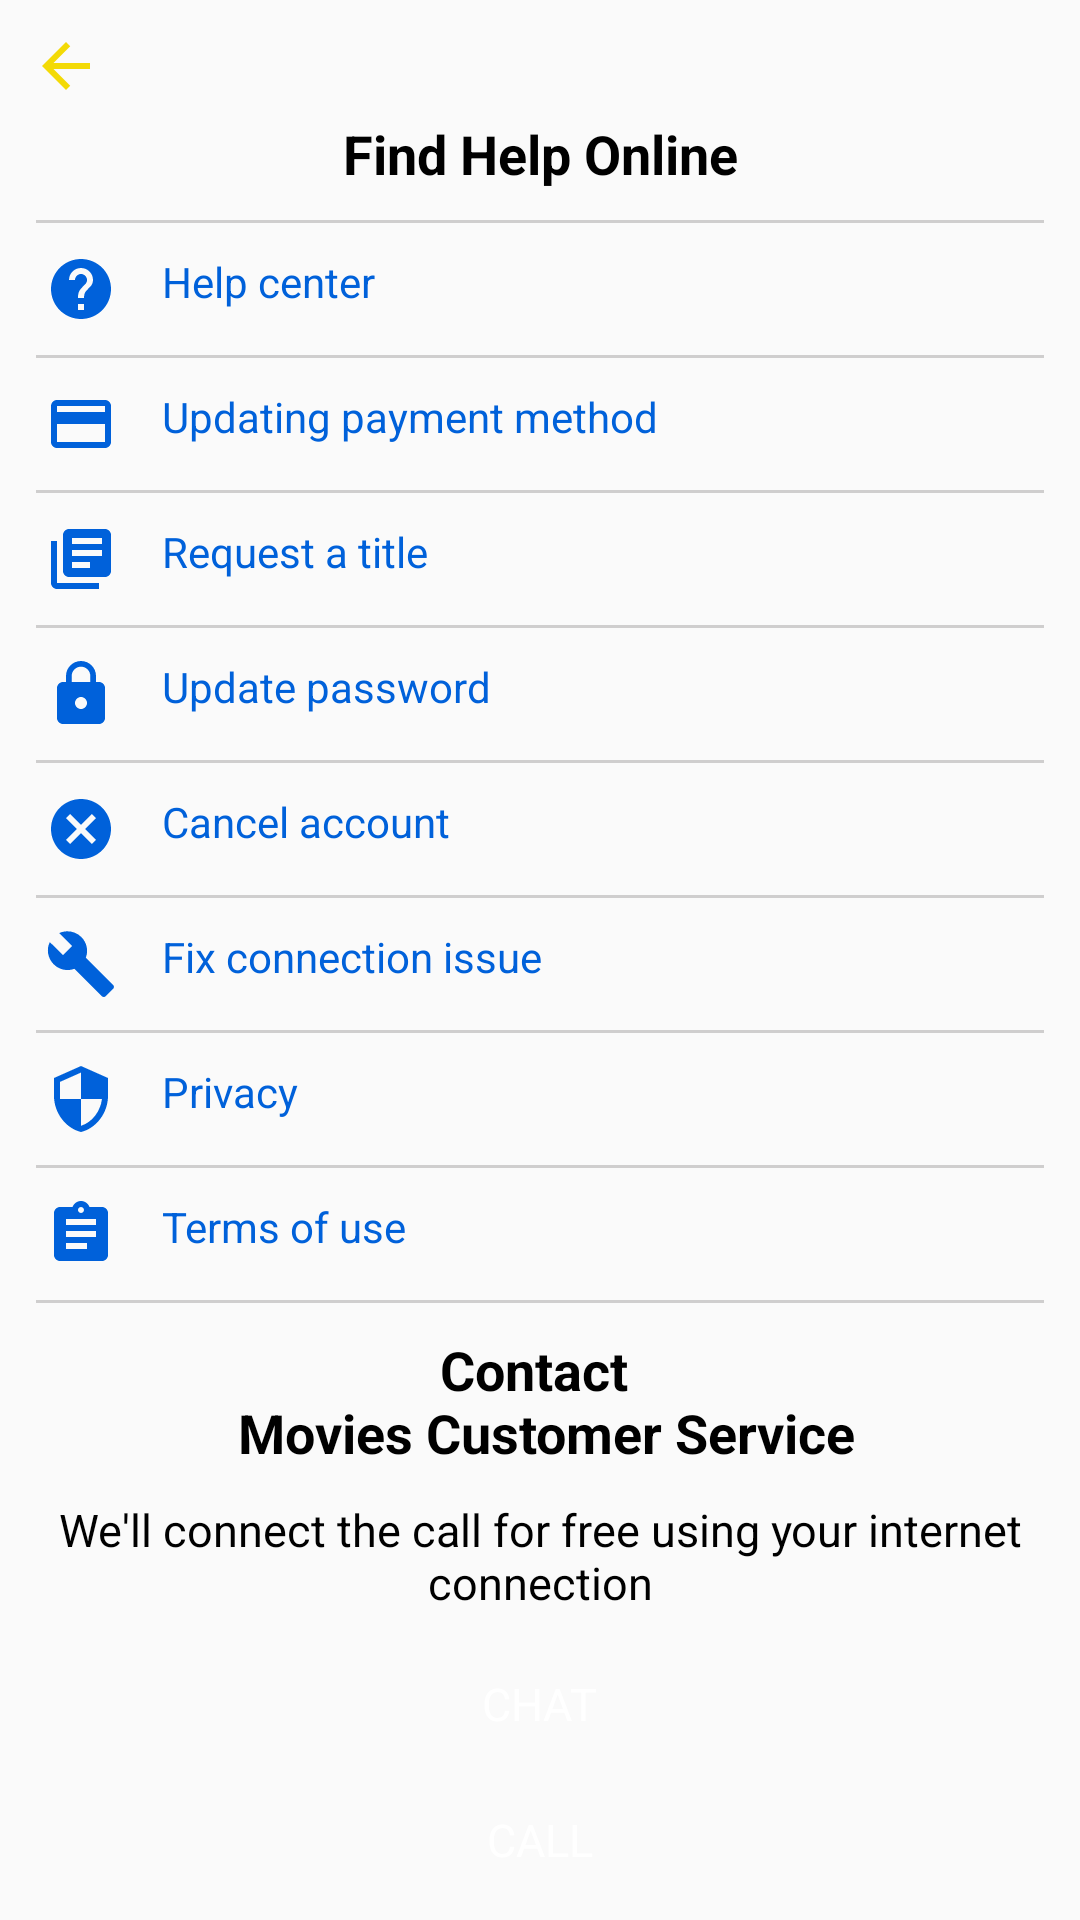

Named icons in this screenshot (1080 x 1920) and their centers, (x=x, y=y):
arrow: (x=66, y=66)
